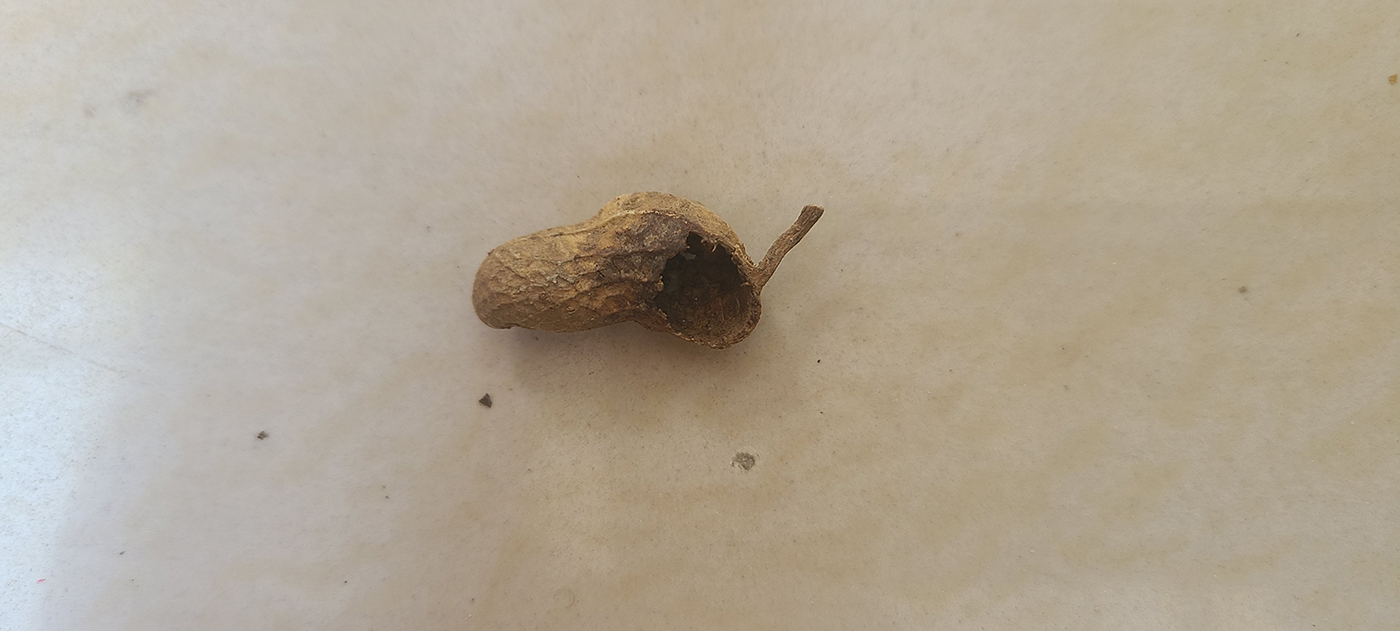l: (466, 190, 764, 352)
